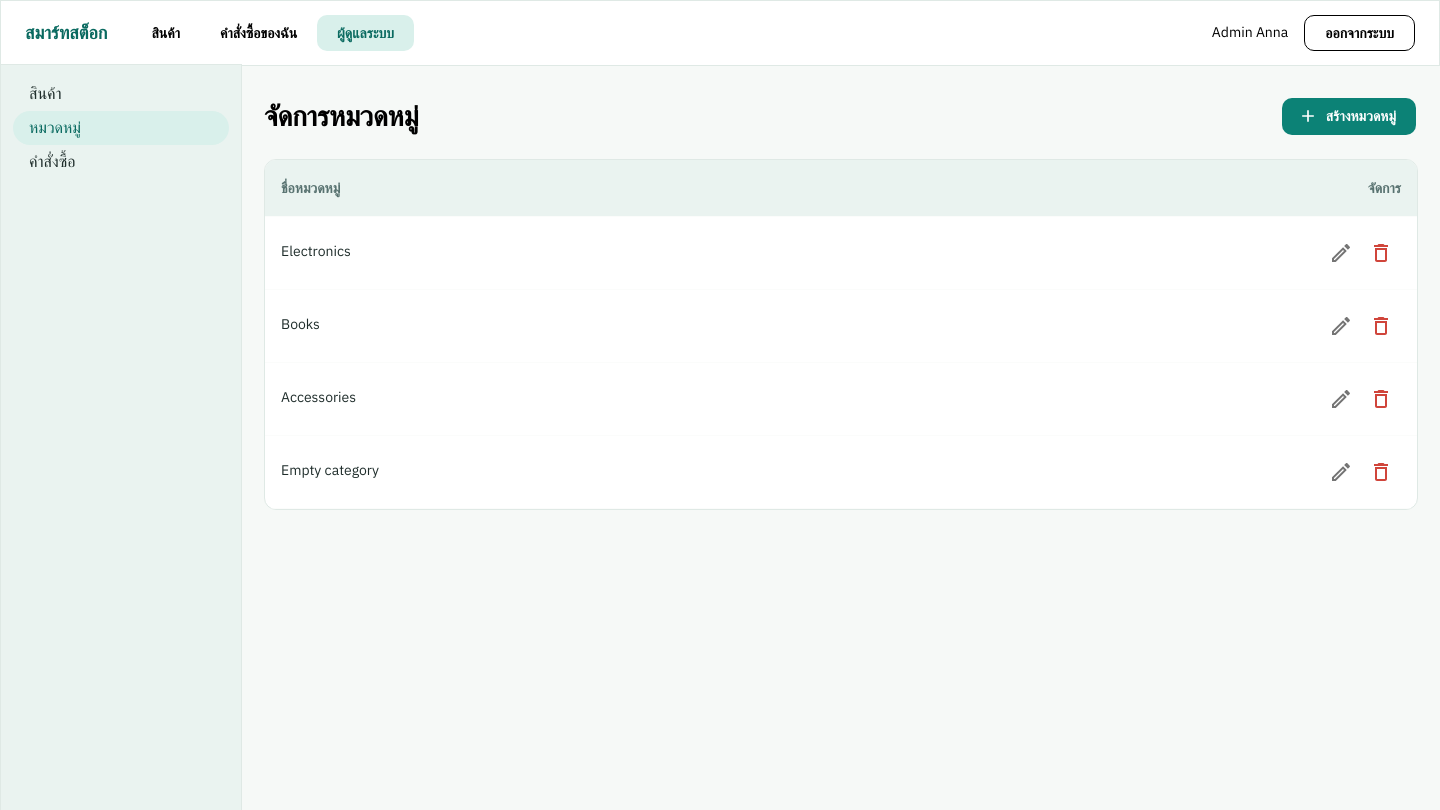
Test: edits a category name
Click the button named "แก้ไข Books" at (1341, 326), box [1321, 306, 1361, 346]
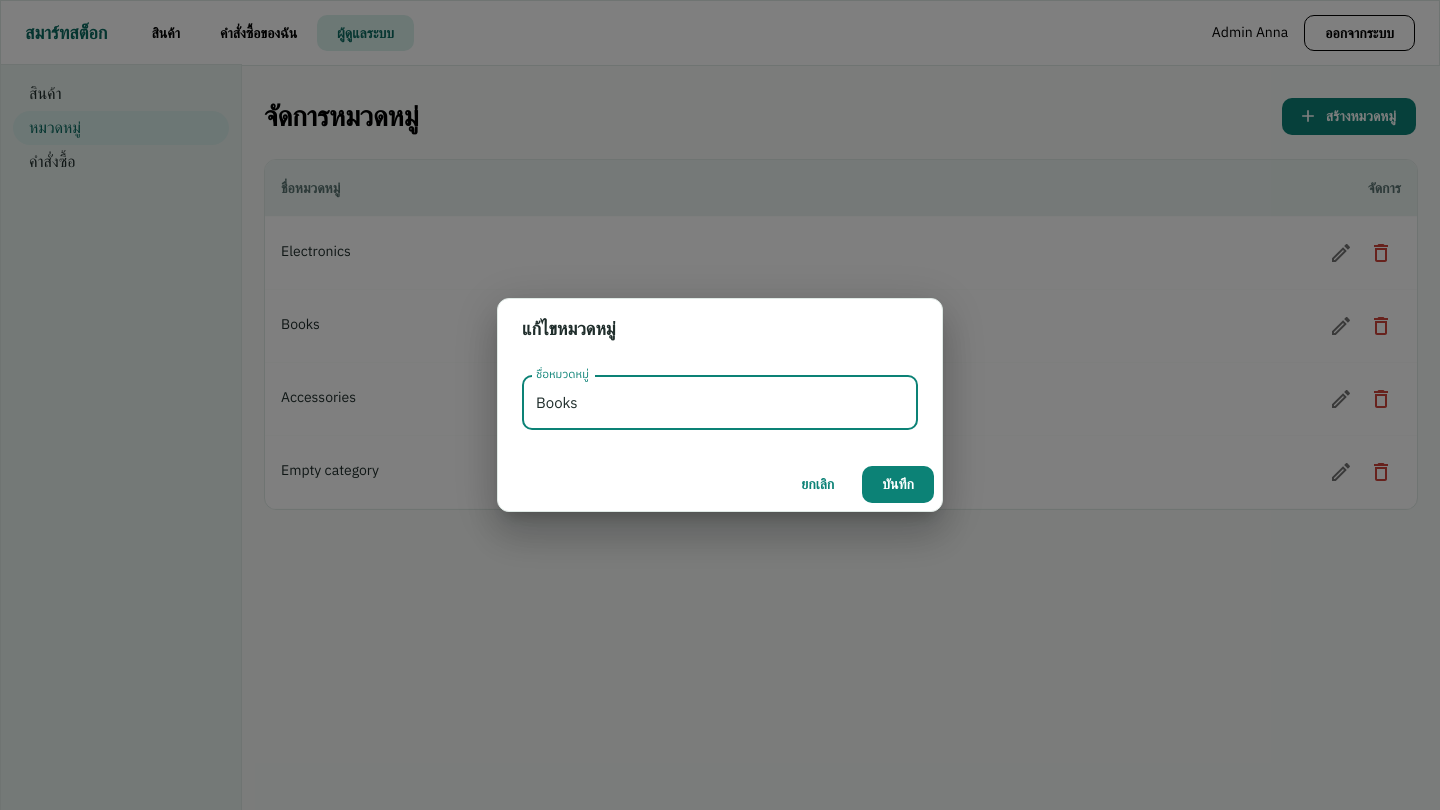
Replace the text in the field labelled "ชื่อหมวดหมู่" with "Magazines" at (720, 403), box [522, 376, 918, 430]
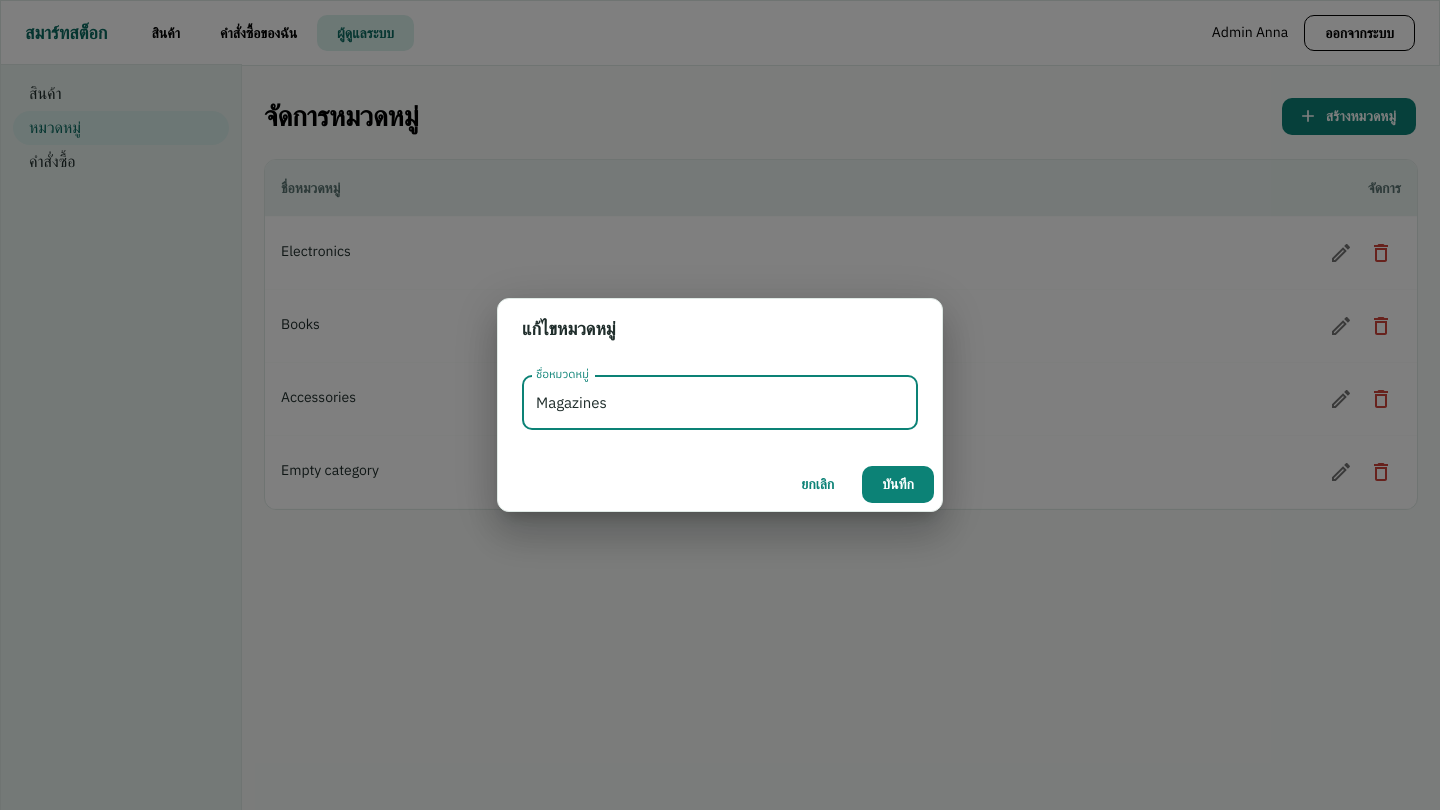
Click the button "บันทึก" at (898, 485), box [862, 466, 934, 503]
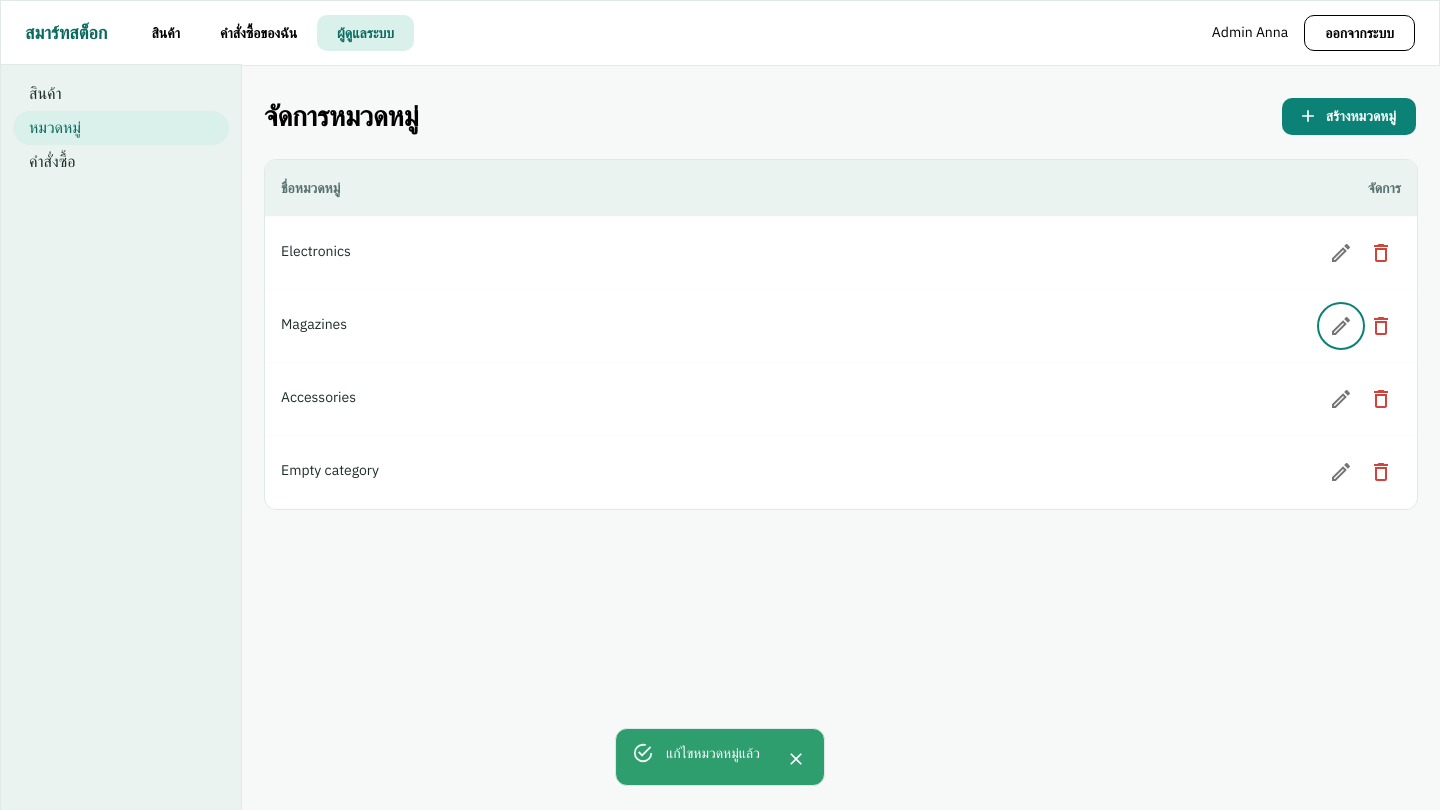
Expected: the text "Magazines" is shown, [265, 289, 884, 362]
Expected: the text "Books" is gone
